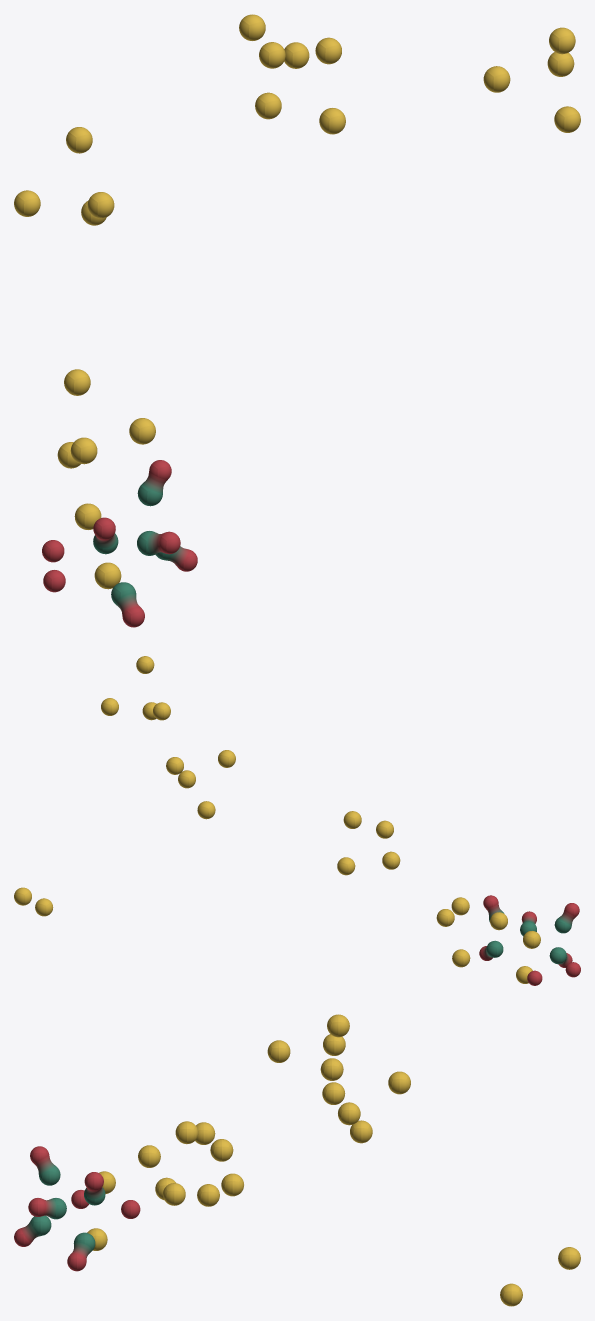
Rendered from 1feh_FeS 1.fbx.
3 views of the same model, one above another, from view 1: azimuth 30°, elevation 25°; view 2: azimuth 150°, elevation 25°; view 3: azimuth 270°, elevation 25° (orthographic). The views are drawn at different scales.
Parts seen in each view (by area): view 1: curMeshHyperballExportedMesh; view 2: curMeshHyperballExportedMesh; view 3: curMeshHyperballExportedMesh.
Part boxes in pixels (bbox=[...]): curMeshHyperballExportedMesh: bbox=[14, 14, 580, 627]; curMeshHyperballExportedMesh: bbox=[14, 656, 580, 985]; curMeshHyperballExportedMesh: bbox=[14, 1014, 580, 1306].
Bounding box in the file's own units: 31.91 × 19.79 × 29.67.
